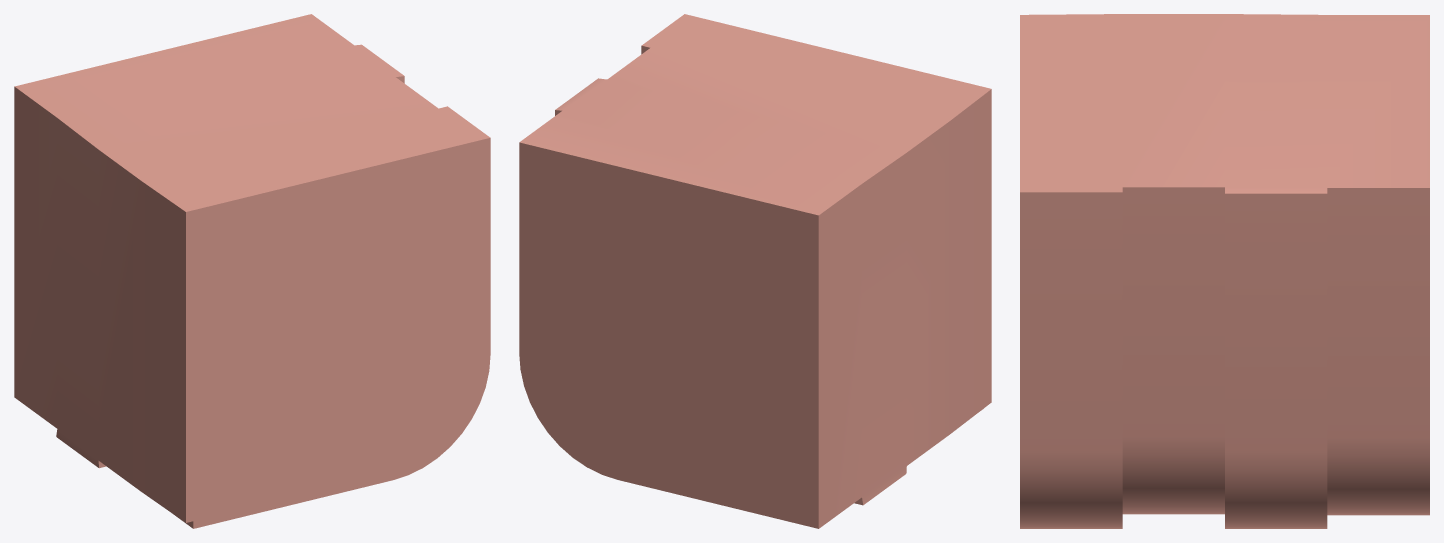
File: cubemod_borde2.fbx
The picture shows the model from 3 angles, left to right: view 1: azimuth 30°, elevation 25°; view 2: azimuth 150°, elevation 25°; view 3: azimuth 270°, elevation 25°; orthographic projection. The views are drawn at different scales.
Parts seen in each view (by area): view 1: cube_modular_ladrillo_borde2; view 2: cube_modular_ladrillo_borde2; view 3: cube_modular_ladrillo_borde2.
Boxes of the visible parts, x1,y1,x2,y2 form: cube_modular_ladrillo_borde2: [14, 14, 490, 528]; cube_modular_ladrillo_borde2: [519, 14, 991, 528]; cube_modular_ladrillo_borde2: [1020, 14, 1429, 528].
Bounding box in the file's own units: 412 × 410 × 400.
